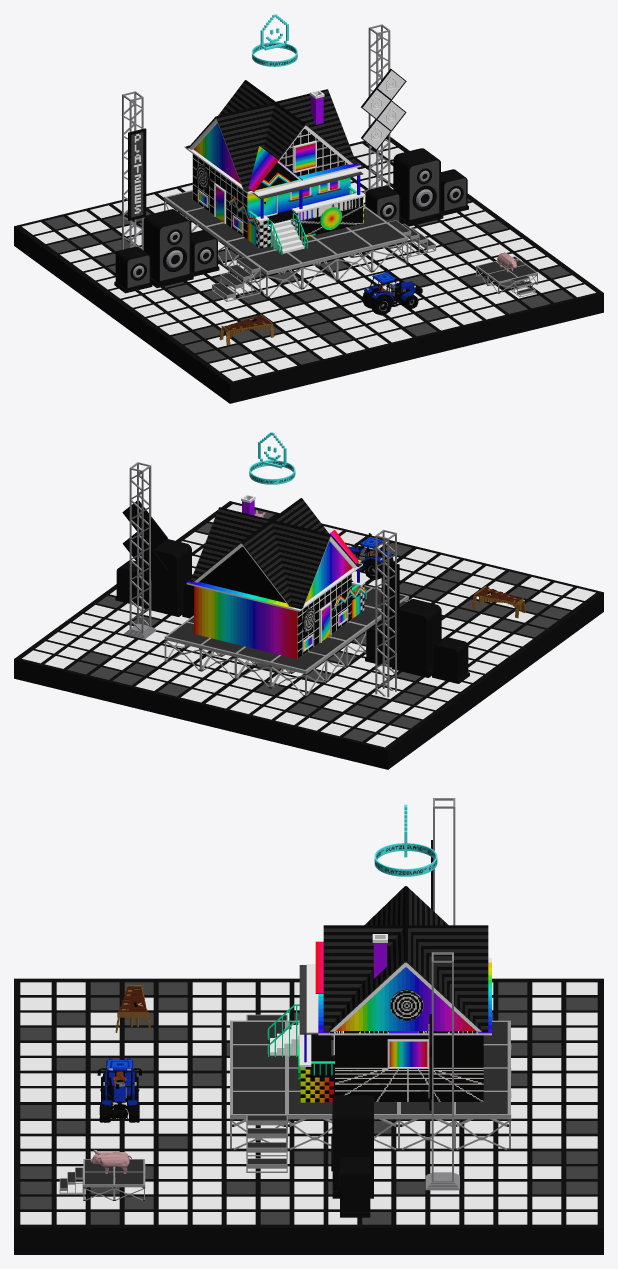
3 views of the same model, one above another, from view 1: azimuth 30°, elevation 25°; view 2: azimuth 150°, elevation 25°; view 3: azimuth 270°, elevation 25° (orthographic). The views are drawn at different scales.
Visible parts, largest first — view 1: Cube.008, Cube.1320, VEHICLES_TRACTOR, TYPE_PREMIUM, OBJRANDOM_MARIMBA; view 2: Cube.008, Cube.1320, TYPE_PREMIUM, VEHICLES_TRACTOR, OBJRANDOM_MARIMBA; view 3: Cube.008, Cube.1320, VEHICLES_TRACTOR, TYPE_PREMIUM, OBJRANDOM_MARIMBA.
Part boxes in pixels (<box>): Cube.008: <box>14,24,603,403</box>; Cube.1320: <box>184,80,365,254</box>; VEHICLES_TRACTOR: <box>362,268,422,315</box>; TYPE_PREMIUM: <box>252,14,297,66</box>; OBJRANDOM_MARIMBA: <box>219,314,274,345</box>; Cube.008: <box>14,462,603,769</box>; Cube.1320: <box>186,494,366,658</box>; TYPE_PREMIUM: <box>249,432,295,484</box>; VEHICLES_TRACTOR: <box>348,533,393,579</box>; OBJRANDOM_MARIMBA: <box>472,586,525,618</box>; Cube.008: <box>14,798,603,1254</box>; Cube.1320: <box>267,886,491,1102</box>; VEHICLES_TRACTOR: <box>97,1058,141,1122</box>; TYPE_PREMIUM: <box>374,804,437,876</box>; OBJRANDOM_MARIMBA: <box>115,985,151,1032</box>.
Bounding box in the file's own units: 4000 × 2528 × 4000.
38 materials, 4 textured.
